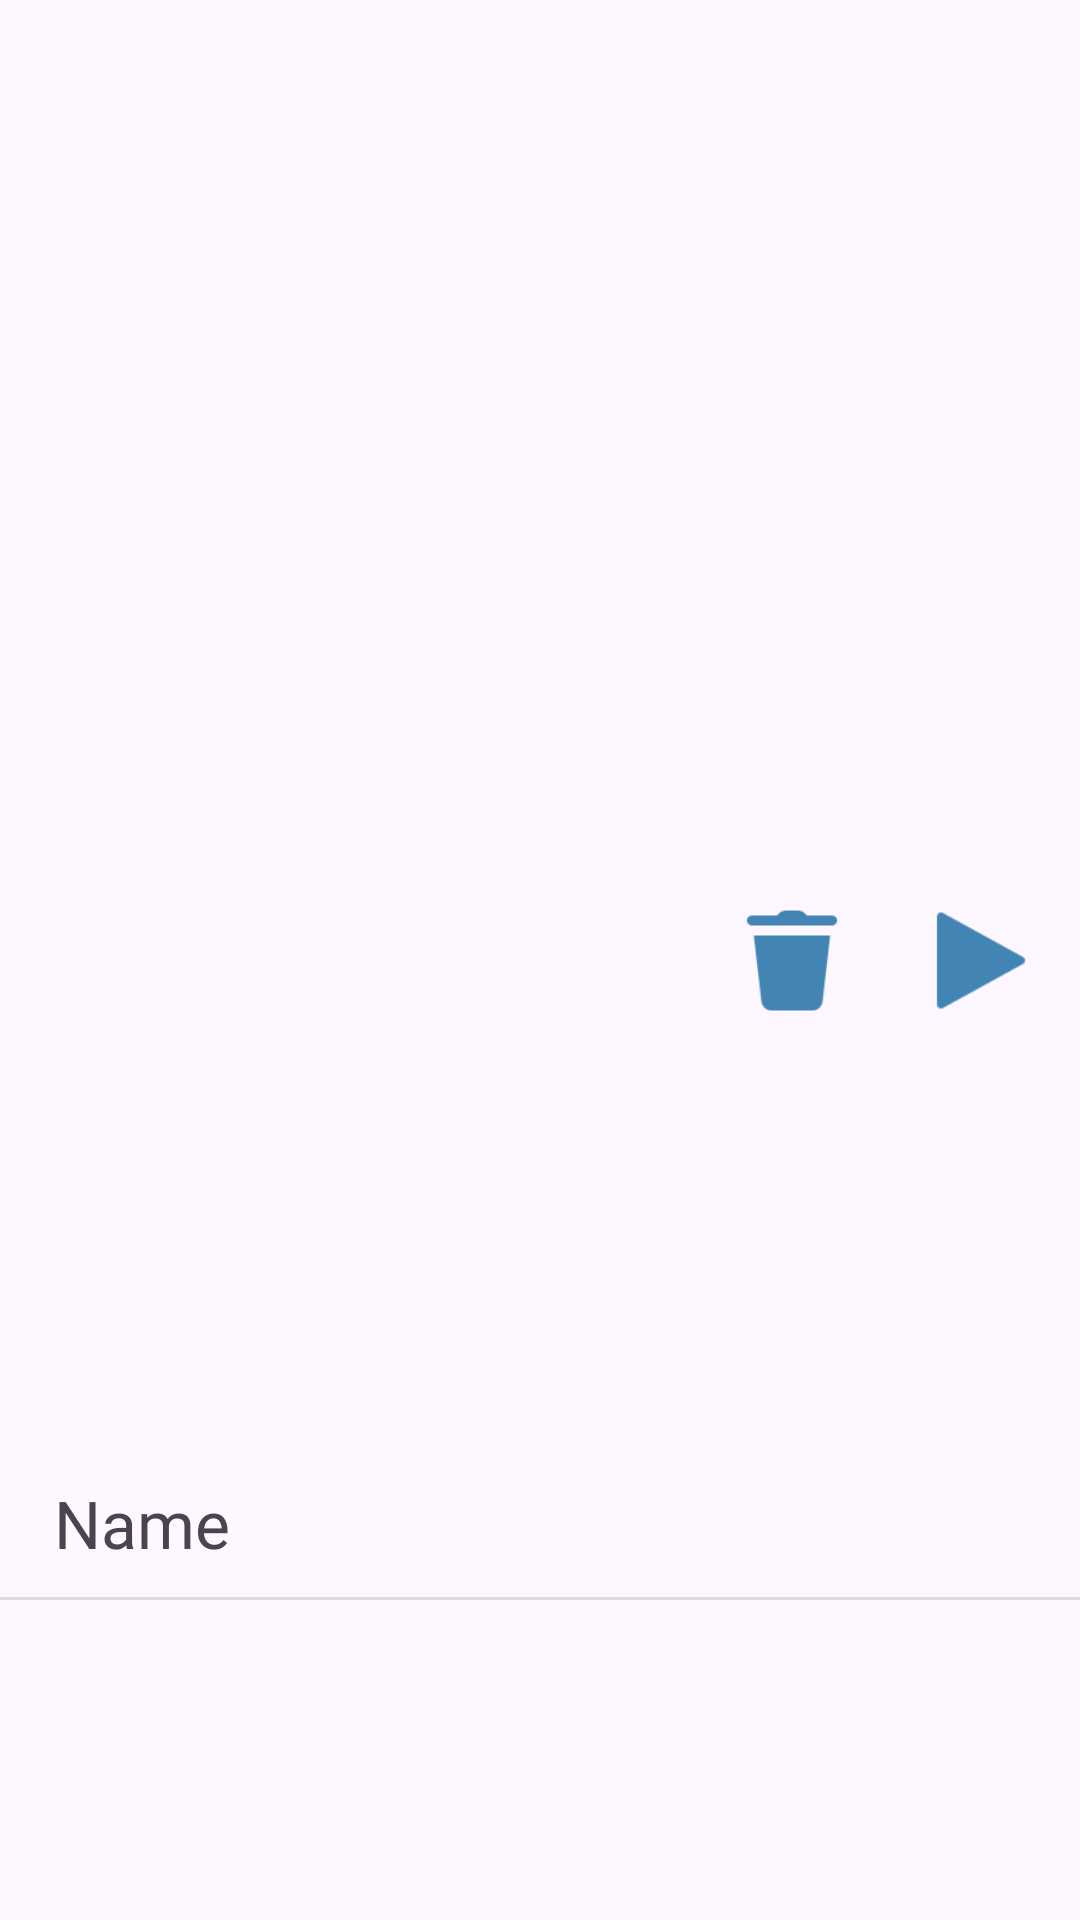

Screen size 1080w x 1920h. Icon name, then its box in pixels as (x1,y1,x2,y2):
delete: (747,910,837,1011)
play: (937,912,1025,1009)
